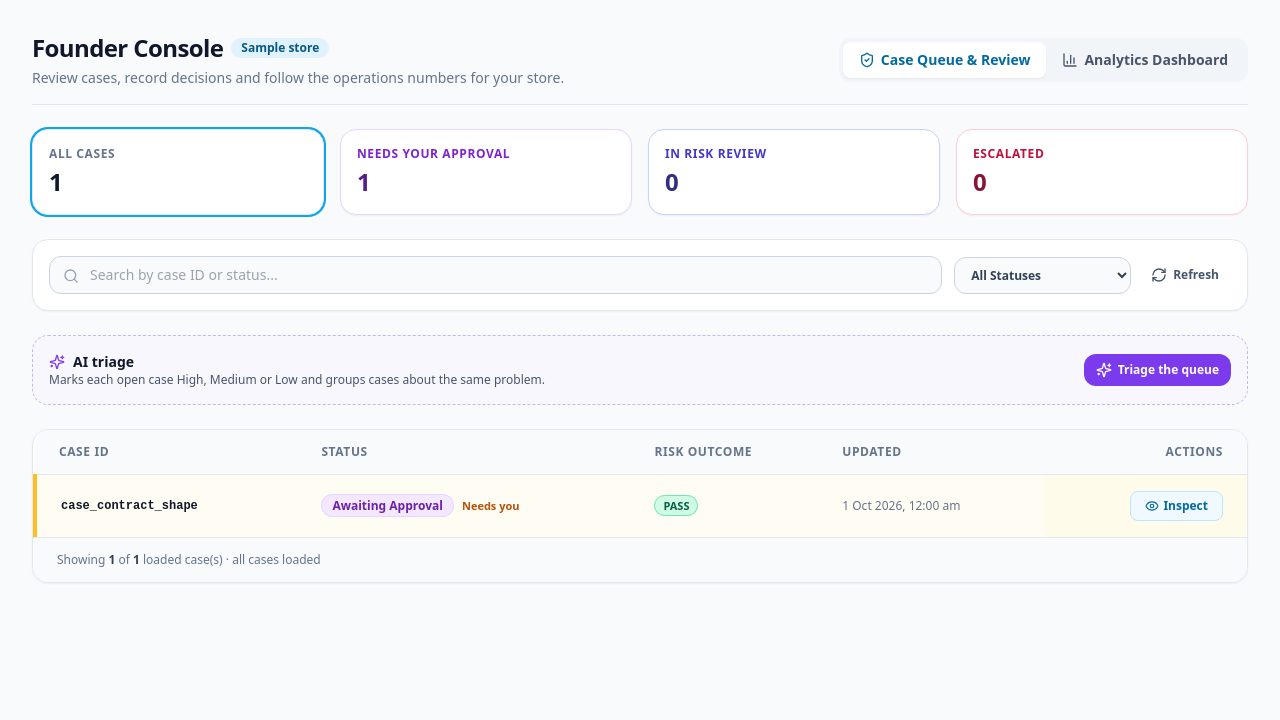
Test: FounderConsole failure and live-mode paths › labels the fixed rule-based proposal as such and shows no model confidence (#111 item 4)
The image size is (1280, 720).
Click the button "Inspect".
click(1177, 506)  # box [1130,491,1223,521]
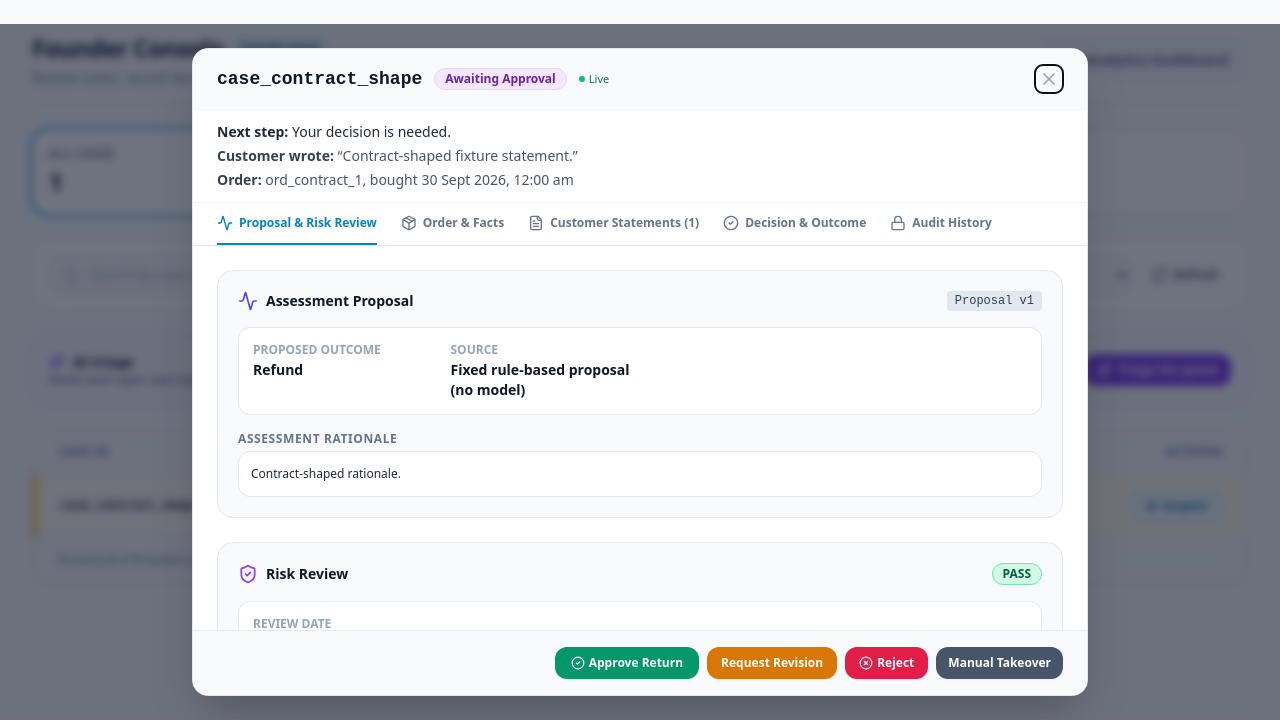
Result: the text "Fixed rule-based proposal (no model)" is shown at [450,360,632,400]
Result: the heading "Assessment Proposal" is shown at [266,291,414,311]
